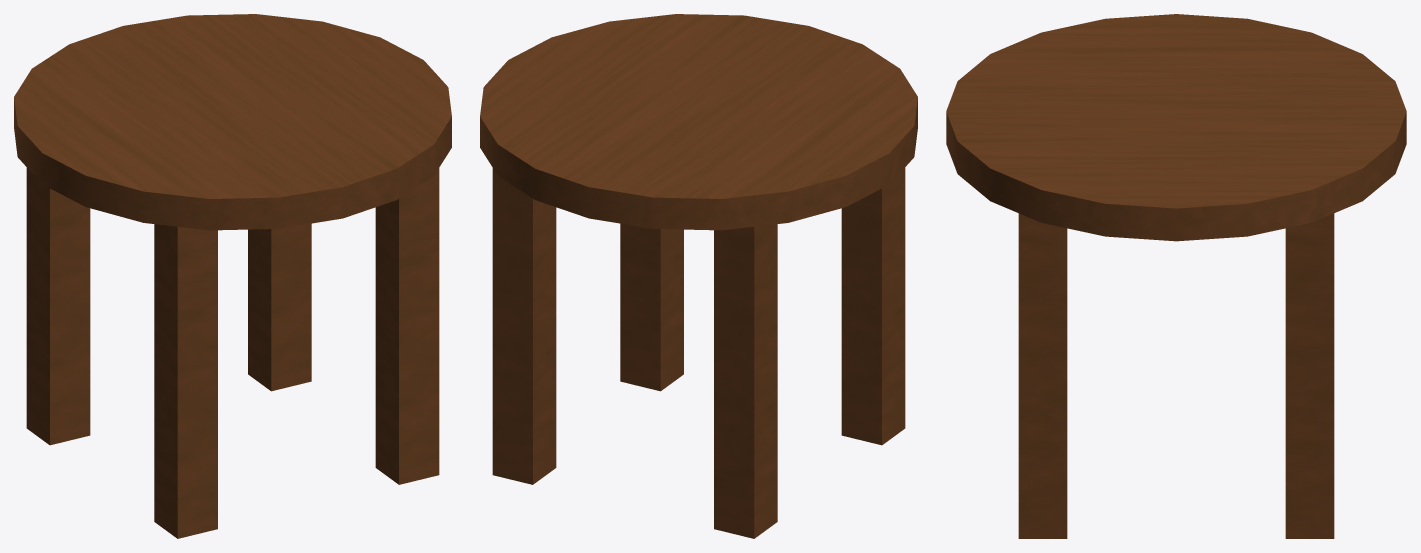
Rendered from table.obj.
3 renders of one model, left to right at view 1: azimuth 30°, elevation 25°; view 2: azimuth 150°, elevation 25°; view 3: azimuth 270°, elevation 25°, orthographic. The views are drawn at different scales.
Visible parts, largest first — view 1: small_table; view 2: small_table; view 3: small_table.
Part boxes in pixels (x1,y1,x2,y2): small_table: [14, 14, 451, 538]; small_table: [480, 14, 917, 538]; small_table: [946, 14, 1406, 538].
Size of what is drawn, in the model's own units: 2.41 by 2.09 by 2.41.
Materials: 1 (1 with a texture image).
